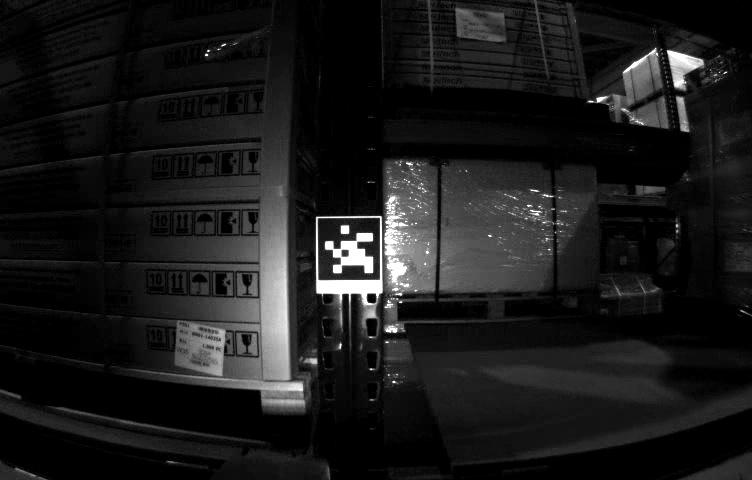True Barcode: (176, 320, 223, 375)
